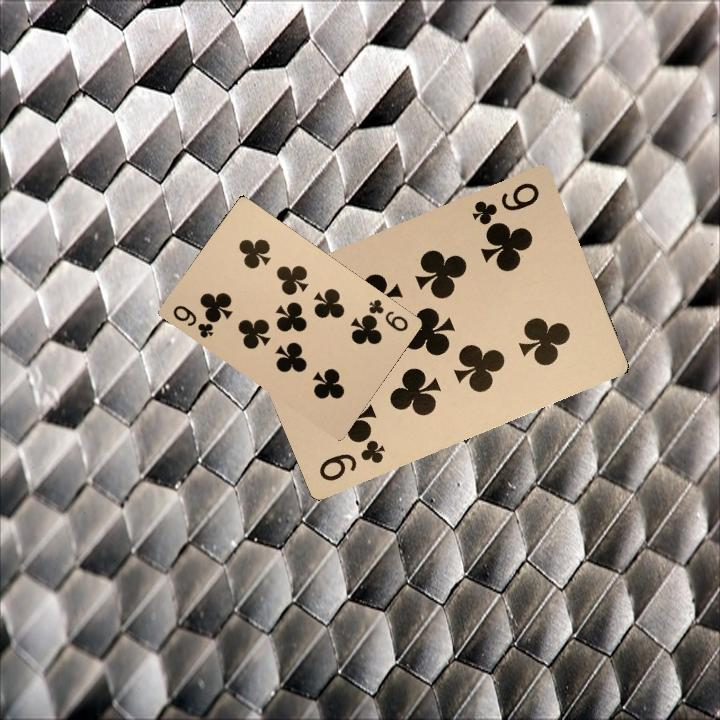9c: (314, 433, 388, 484), (468, 178, 542, 228), (169, 301, 216, 341), (364, 295, 411, 334)
